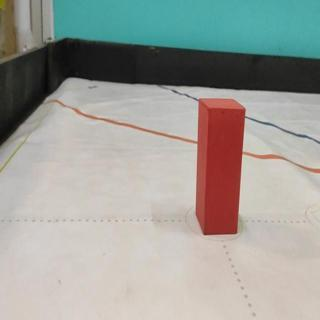redbox: (195, 97, 246, 234)
